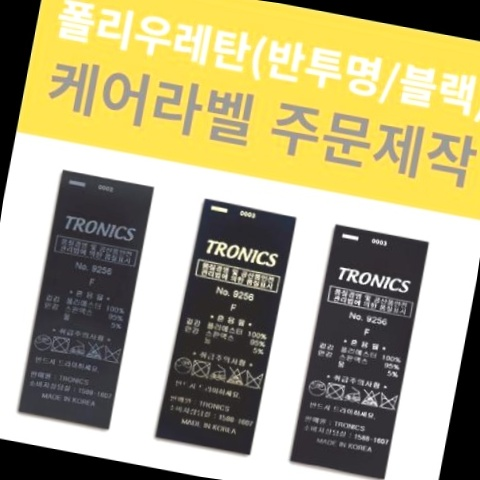DN_bleach: (227, 364, 248, 389), (361, 386, 382, 411), (88, 340, 107, 363)
DN_tumble_dry: (49, 331, 74, 357), (189, 356, 214, 382), (326, 378, 349, 404)
DN_wash: (243, 365, 266, 393), (379, 390, 401, 414), (105, 343, 125, 365)
dry_clean: (305, 375, 331, 401), (31, 331, 53, 356), (173, 355, 195, 377)
iron: (344, 382, 365, 406), (211, 361, 230, 384), (72, 336, 91, 356)
